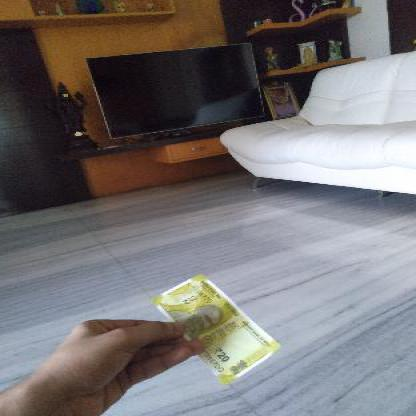New20Front: (154, 272, 274, 382)
